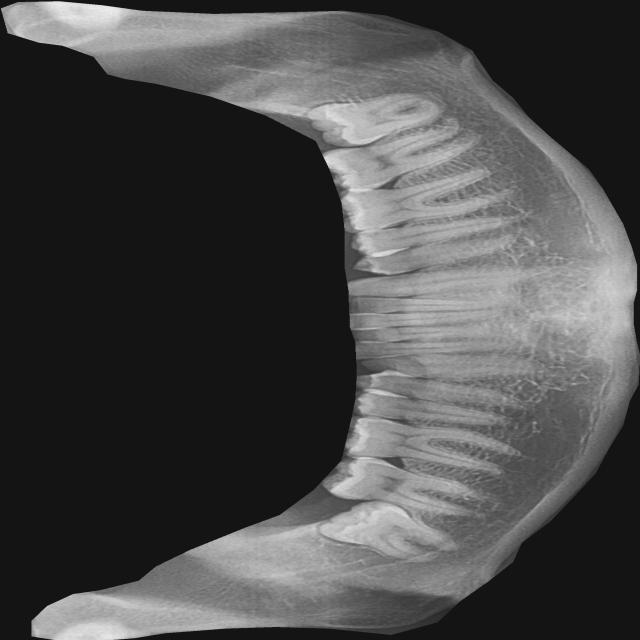mandibula: (1, 0, 640, 640)
